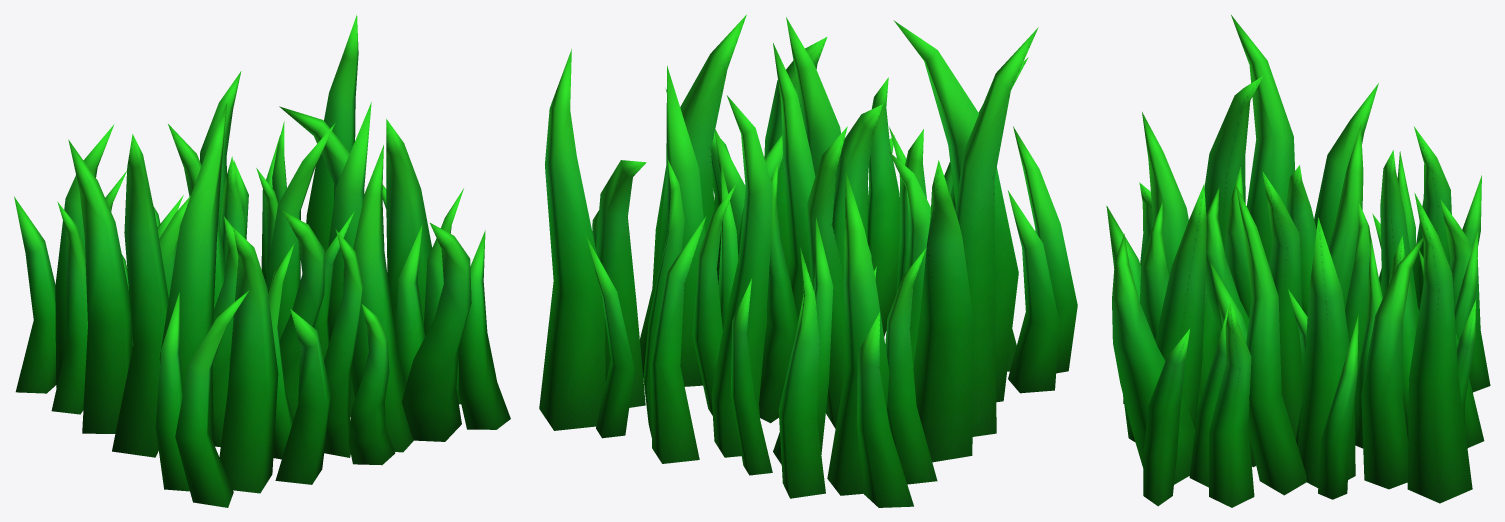
Rendered from cao.FBX.
3 renders of one model, left to right at view 1: azimuth 30°, elevation 25°; view 2: azimuth 150°, elevation 25°; view 3: azimuth 270°, elevation 25°, orthographic. The views are drawn at different scales.
Parts seen in each view (by area): view 1: Object021; view 2: Object021; view 3: Object021.
Part boxes in pixels (<box>): Object021: <box>14,15,510,507</box>; Object021: <box>539,14,1077,507</box>; Object021: <box>1106,15,1490,507</box>.
Bounding box in the file's own units: 53.14 × 49.86 × 52.42.
